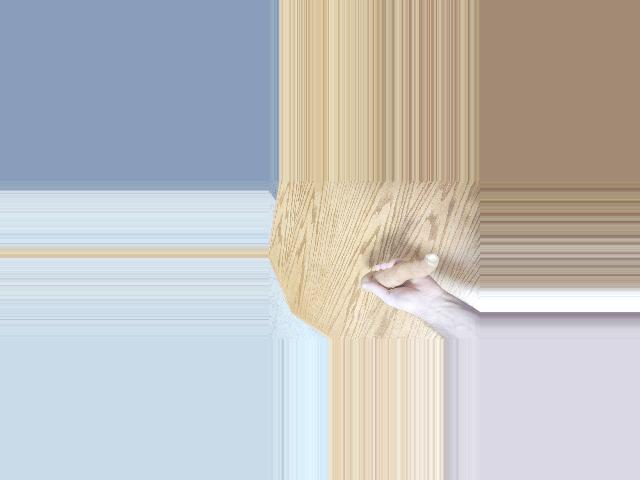sweet_potato: (357, 254, 444, 288)
